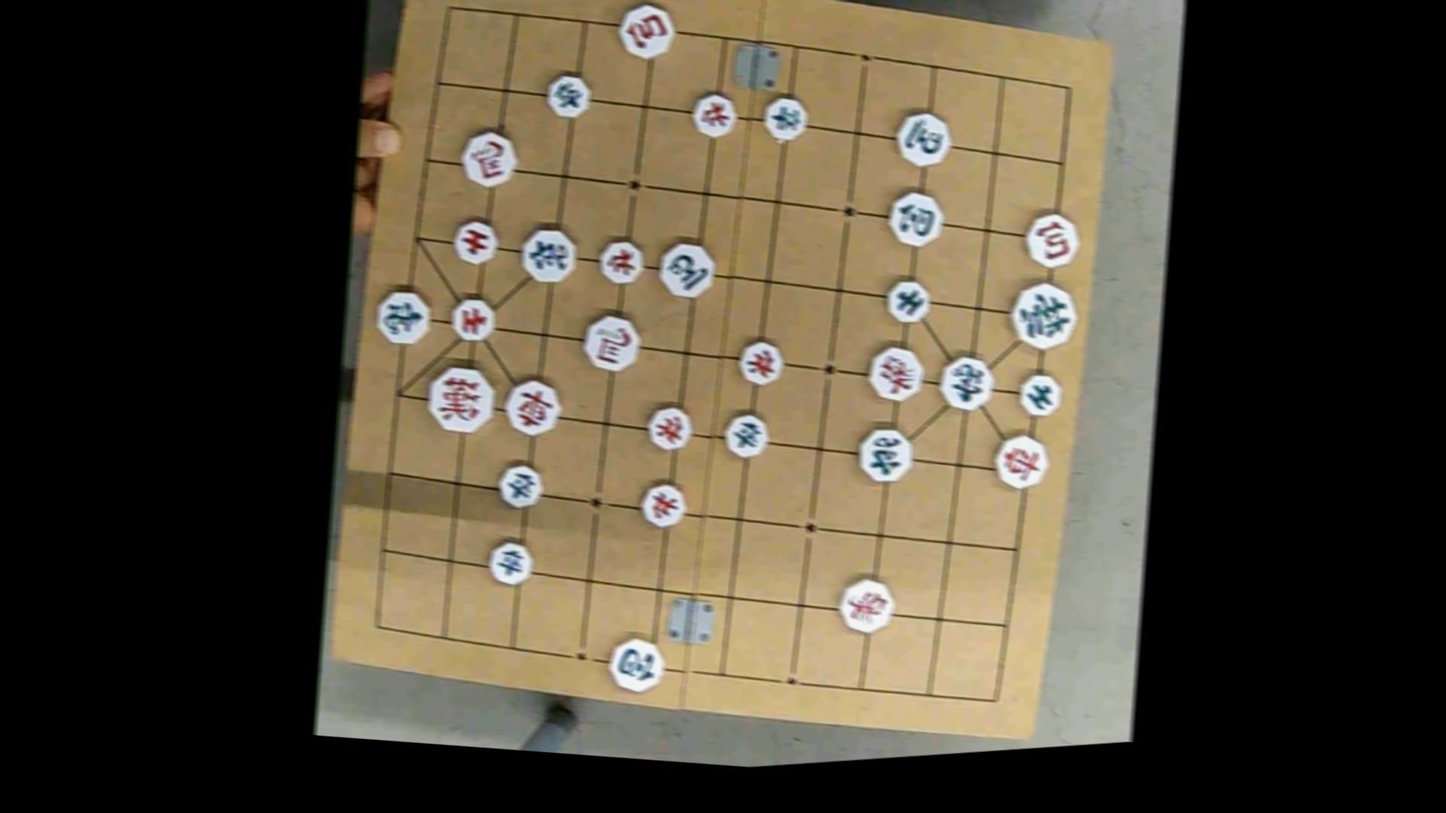cha_green: (513, 222, 581, 288), (853, 422, 915, 489)
cha_red: (499, 373, 561, 441), (989, 427, 1049, 493)
jol_green: (718, 406, 773, 461), (757, 90, 810, 147), (495, 457, 548, 513), (545, 69, 593, 123), (485, 538, 535, 589)
jol_red: (734, 336, 787, 393), (594, 234, 645, 288), (638, 479, 688, 534), (644, 400, 694, 455), (691, 87, 739, 143)
ma_green: (652, 235, 719, 306), (889, 105, 951, 171)
ma_red: (575, 307, 643, 374), (458, 124, 519, 192)
po_green: (604, 629, 667, 699), (884, 185, 946, 251)
po_red: (1020, 207, 1081, 276), (614, 0, 676, 65)
sa_green: (1011, 367, 1064, 422), (881, 273, 931, 327)
sa_red: (447, 291, 498, 347), (450, 215, 499, 269)
sang_green: (374, 284, 435, 352), (935, 354, 997, 417)
sang_red: (833, 570, 901, 639), (865, 340, 926, 407)
wang_green: (1006, 278, 1081, 358)
wang_red: (421, 358, 498, 442)
